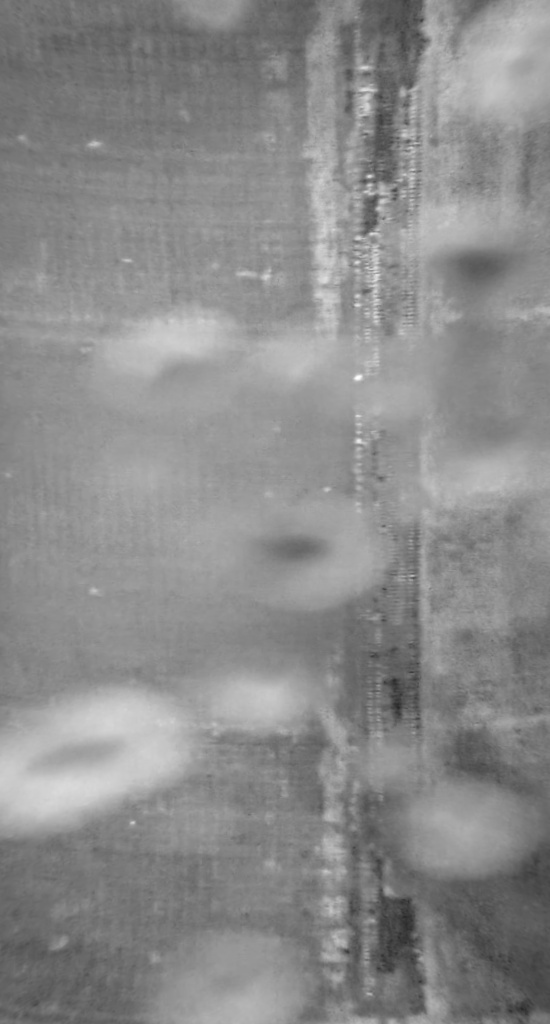splice: (332, 1, 429, 1020)
